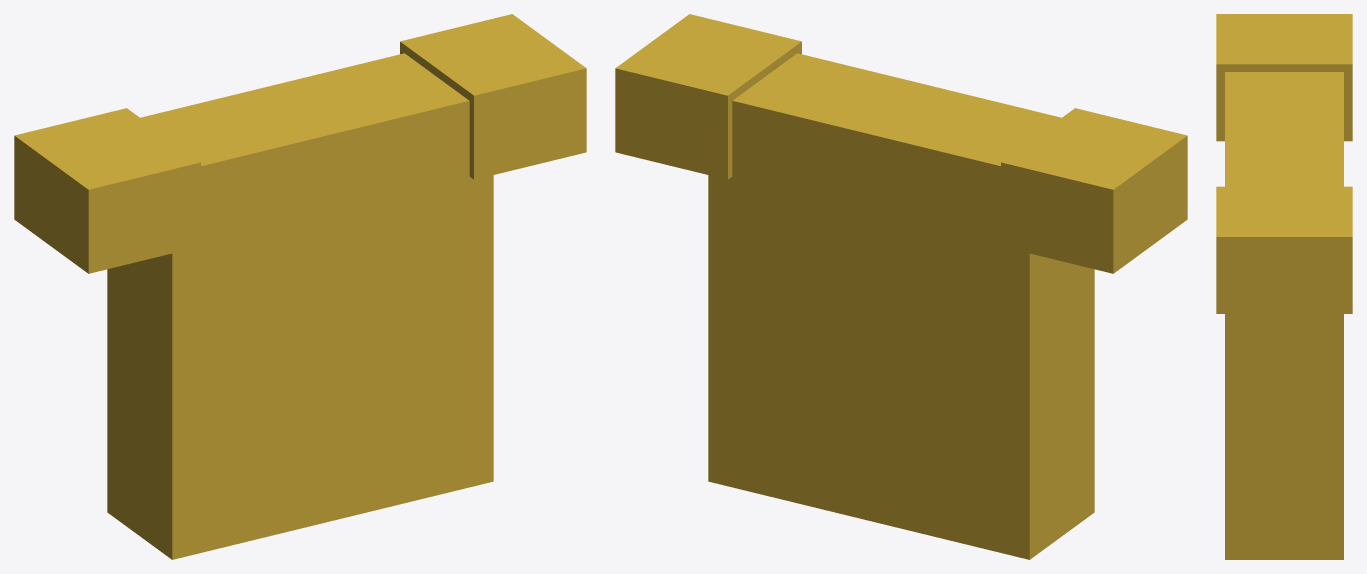
The model's file is gold_chestplate.glb.
The picture shows the model from 3 angles, left to right: view 1: azimuth 30°, elevation 25°; view 2: azimuth 150°, elevation 25°; view 3: azimuth 270°, elevation 25°; orthographic projection. The views are drawn at different scales.
Parts seen in each view (by area): view 1: plate, shoulder0, shoulder1; view 2: plate, shoulder0, shoulder1; view 3: plate, shoulder1, shoulder0.
Boxes of the visible parts, x1,y1,x2,y2 form: plate: (107,53,493,559); shoulder0: (14,108,200,273); shoulder1: (400,14,586,179); plate: (708,53,1094,559); shoulder0: (1001,108,1187,273); shoulder1: (615,14,801,179); plate: (1225,72,1343,559); shoulder1: (1216,186,1352,313); shoulder0: (1216,14,1352,141).
Bounding box in the file's own units: 0.62 × 0.47 × 0.16.
